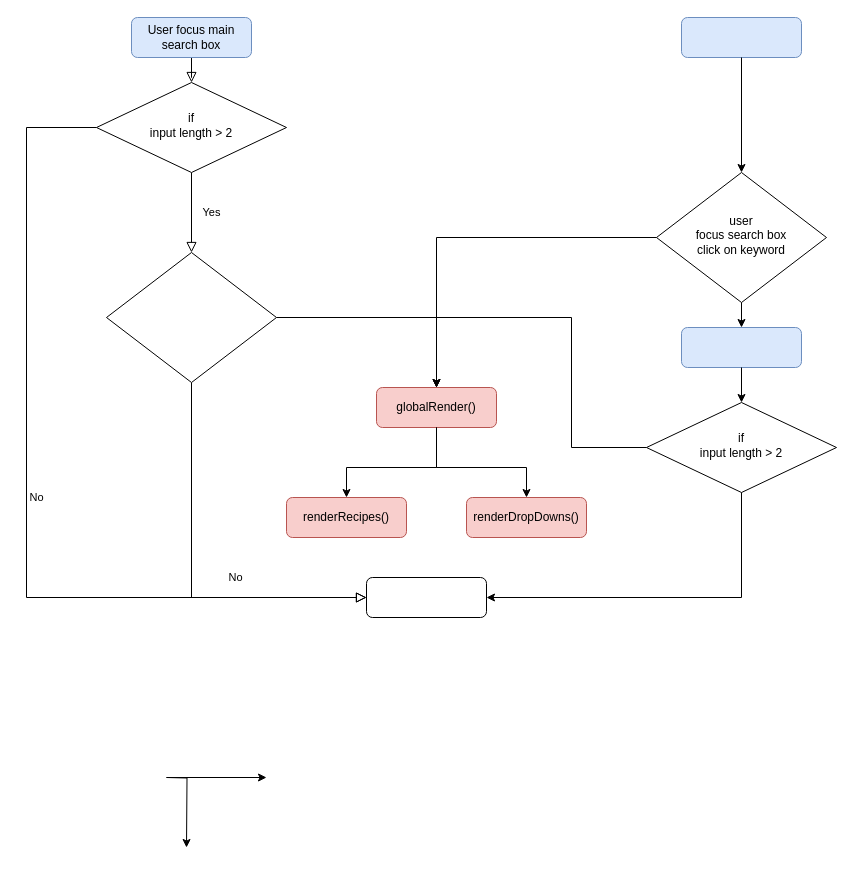
This 854x873 diagram has some shape labels left out. The shapes that lost their labels are listed below. From the top down, each one's centre as x and y in pixels, then its label:
(741,37): User click on dropdown
(191,317): Make comparaison. found somethings
(741,347): focus search box
(426,597): nothing
